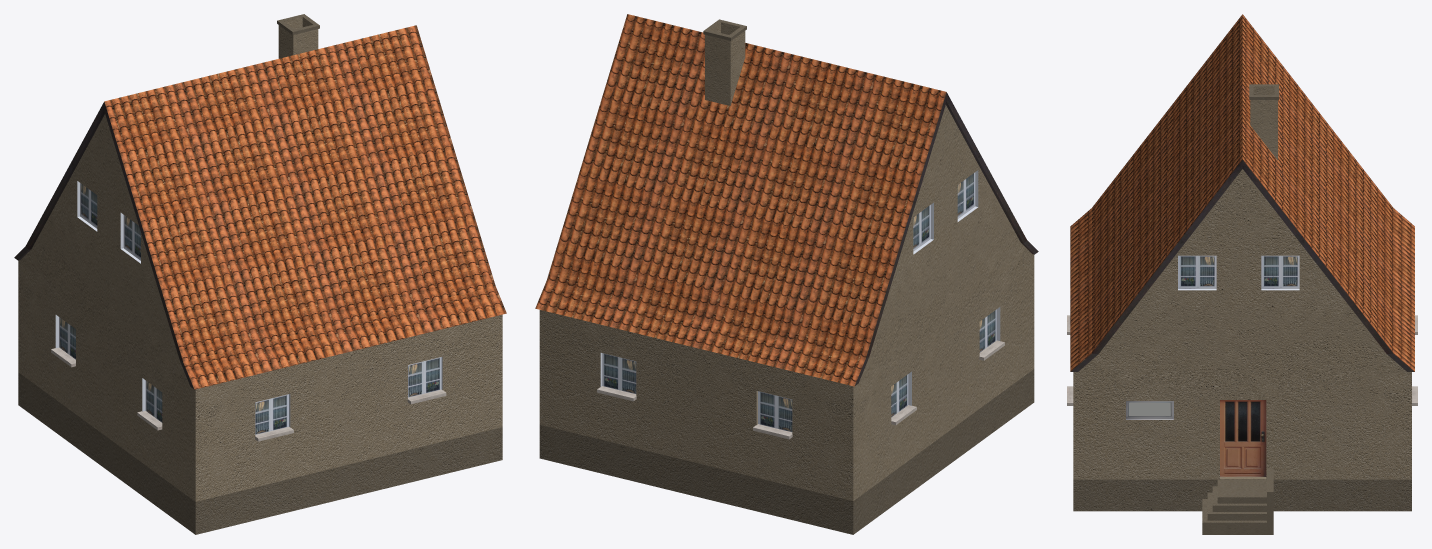
The model's file is ddr_ew_65.obj.
3 views of the same model, side by side, from view 1: azimuth 30°, elevation 25°; view 2: azimuth 150°, elevation 25°; view 3: azimuth 270°, elevation 25° (orthographic). The views are drawn at different scales.
Visible parts, largest first — view 1: Main; view 2: Main; view 3: Main.
Boxes of the visible parts, bbox=[...] form: Main: bbox=[14, 14, 506, 534]; Main: bbox=[535, 14, 1038, 534]; Main: bbox=[1067, 14, 1417, 534].
Bounding box in the file's own units: 10.3 × 10.58 × 9.04.
Materials: 1 (1 with a texture image).
